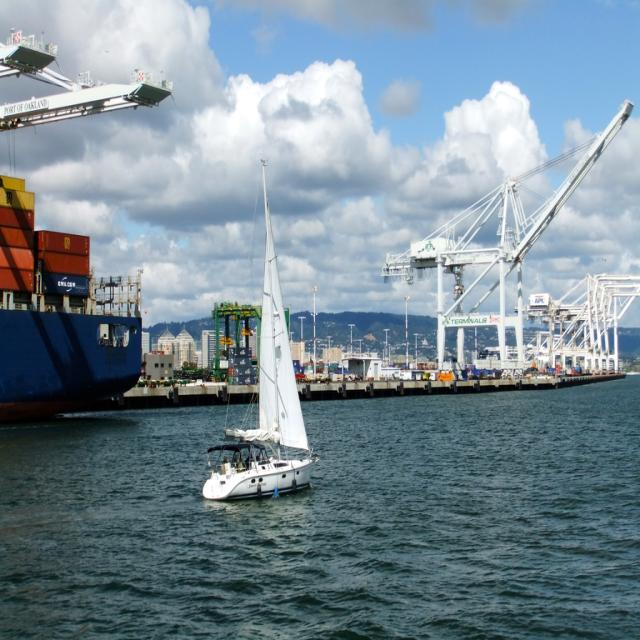Boat: (200, 145, 326, 515)
